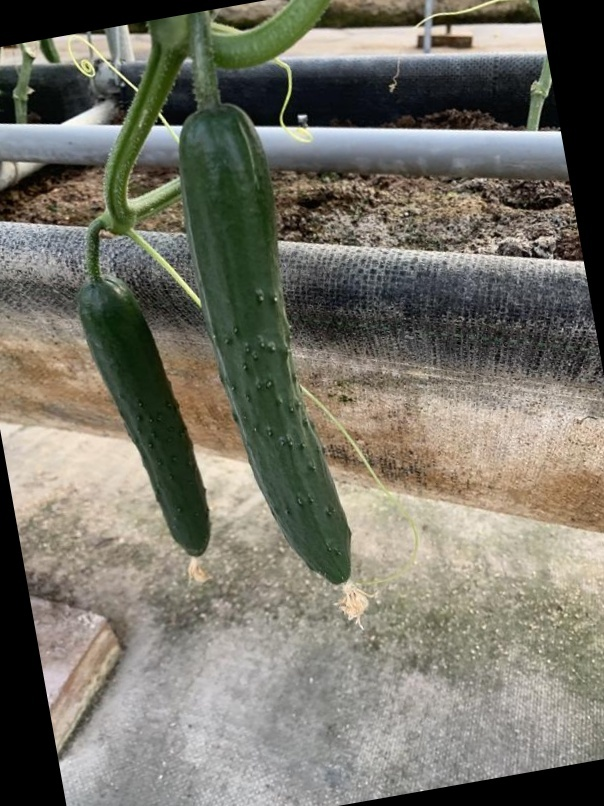mature: (175, 92, 356, 606), (72, 277, 214, 563)
